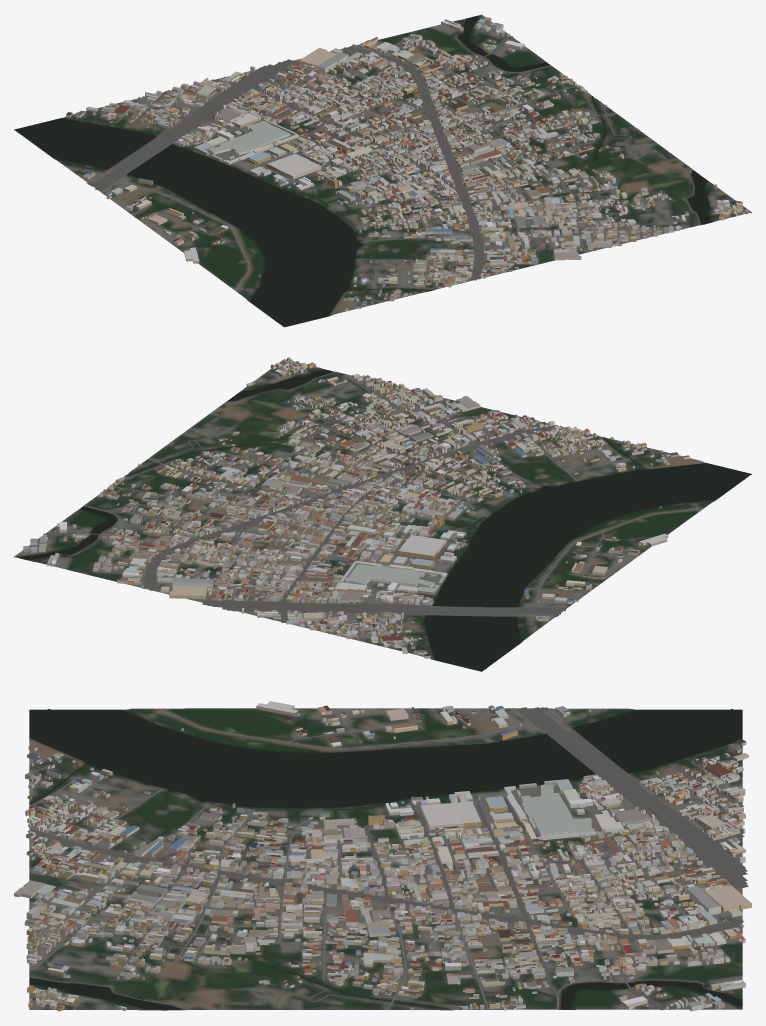
3 views of the same model, one above another, from view 1: azimuth 30°, elevation 25°; view 2: azimuth 150°, elevation 25°; view 3: azimuth 270°, elevation 25° (orthographic). The views are drawn at different scales.
Visible parts, largest first — view 1: buildings, ground, water, roads; view 2: buildings, ground, water, roads; view 3: buildings, ground, water, roads.
Boxes of the visible parts, x1=… form: buildings: x1=66, y1=17, x2=747, y2=311; ground: x1=14, y1=14, x2=751, y2=327; water: x1=15, y1=15, x2=711, y2=326; roads: x1=66, y1=16, x2=745, y2=302; buildings: x1=23, y1=357, x2=689, y2=658; ground: x1=14, y1=359, x2=751, y2=671; water: x1=18, y1=369, x2=750, y2=671; roads: x1=16, y1=371, x2=702, y2=655; buildings: x1=14, y1=701, x2=751, y2=1011; ground: x1=29, y1=708, x2=742, y2=1010; water: x1=29, y1=709, x2=742, y2=1010; roads: x1=27, y1=707, x2=748, y2=1010.
Size of the model in its own units: 1428 by 23.34 by 1449.
